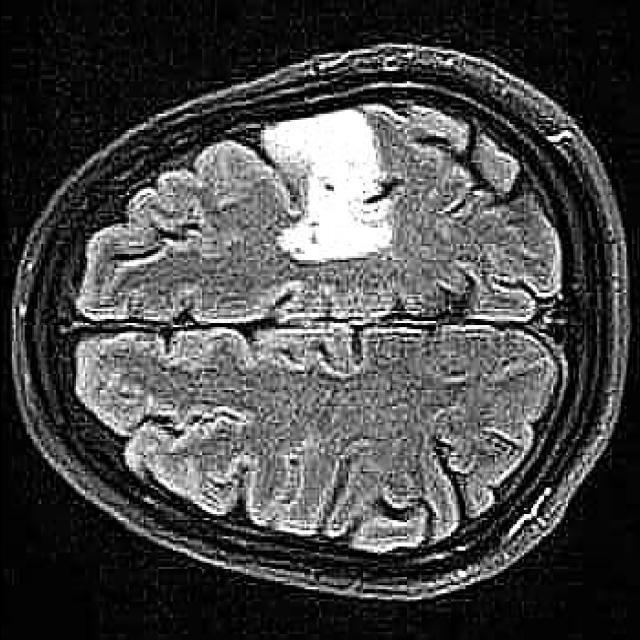tumor: (258, 108, 395, 264)
